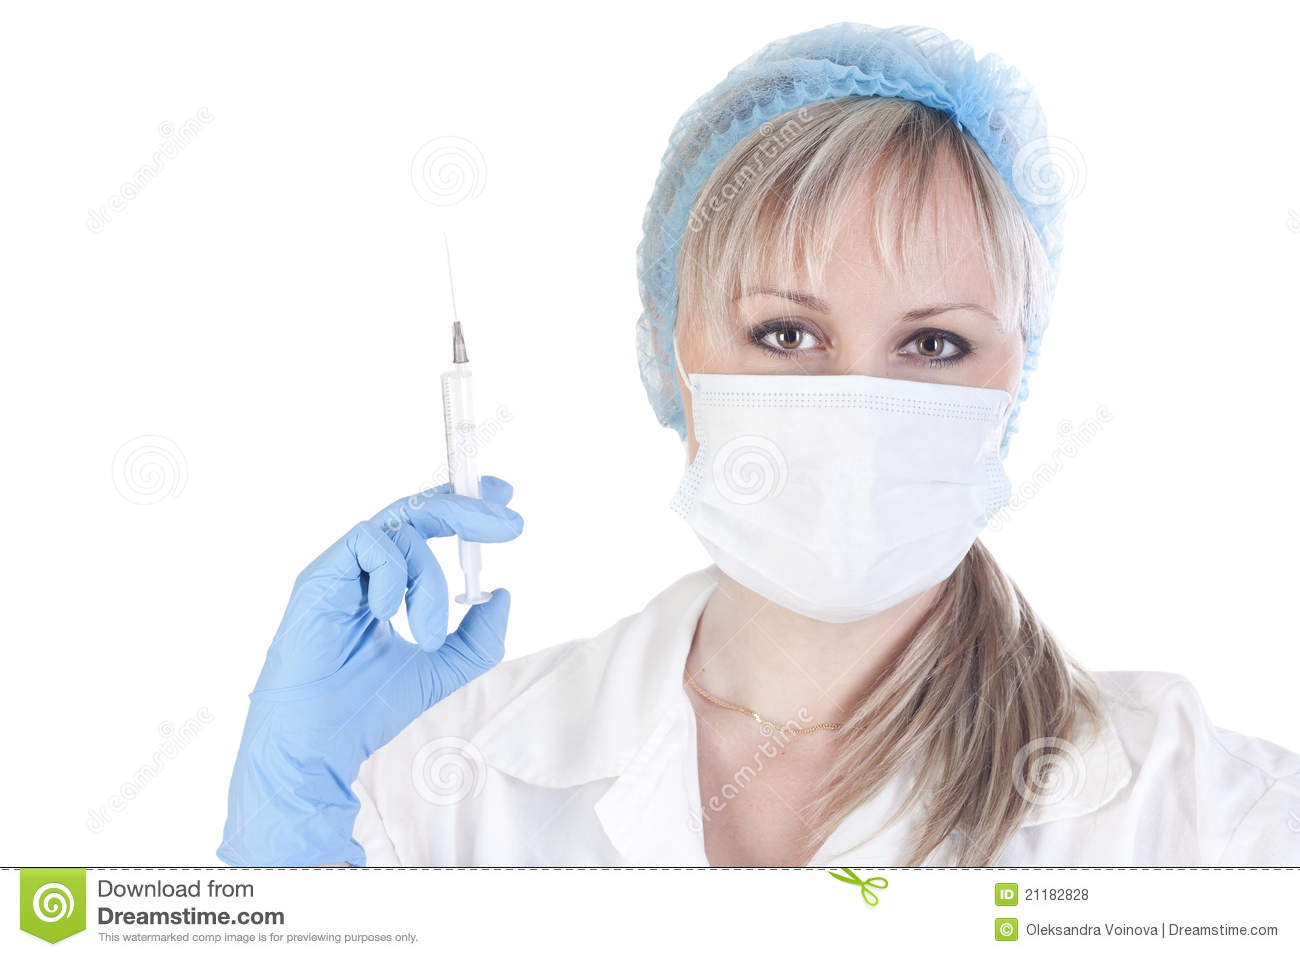mask: (663, 363, 1023, 620)
